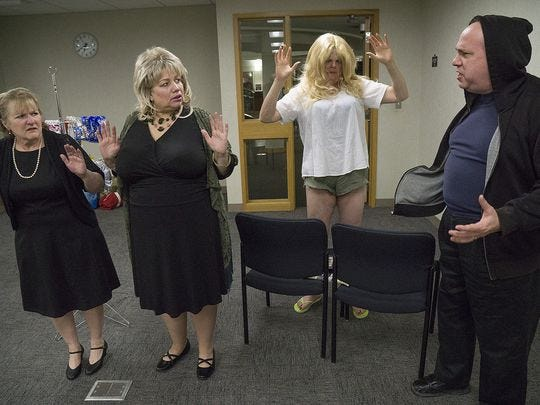bad: (9, 102, 45, 138), (153, 70, 189, 106)
